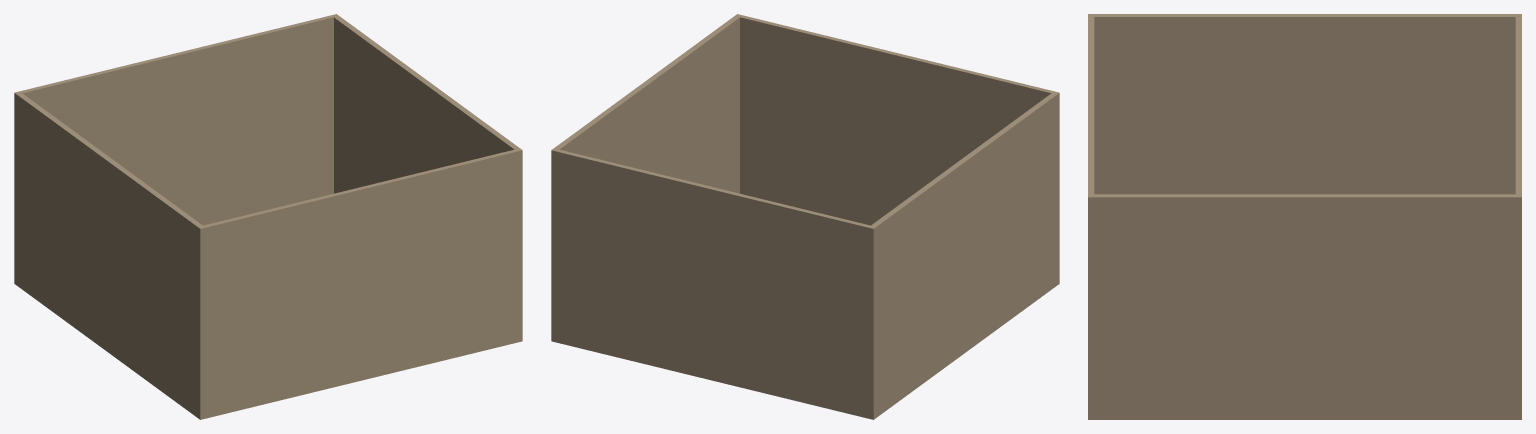
File: Walls.fbx
3 views of the same model, side by side, from view 1: azimuth 30°, elevation 25°; view 2: azimuth 150°, elevation 25°; view 3: azimuth 270°, elevation 25° (orthographic). The views are drawn at different scales.
Parts seen in each view (by area): view 1: Plane; view 2: Plane; view 3: Plane.
Part boxes in pixels (left/top/right/bottom): Plane: left=14, top=14, right=522, bottom=419; Plane: left=551, top=14, right=1059, bottom=419; Plane: left=1088, top=14, right=1521, bottom=419.
Size of the model in its own units: 400 by 226 by 400.
